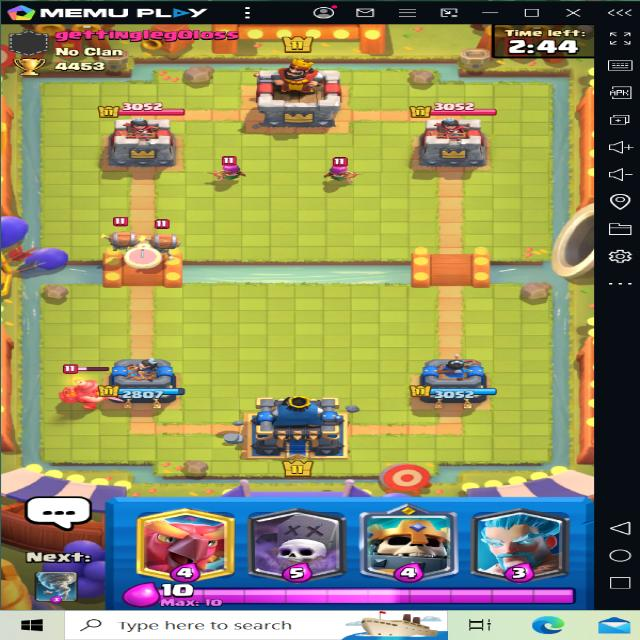Archer: (315, 152, 378, 192), (209, 153, 255, 184)
Miner: (56, 357, 115, 414)
Wallbreakers: (145, 214, 188, 263), (93, 215, 143, 255)
